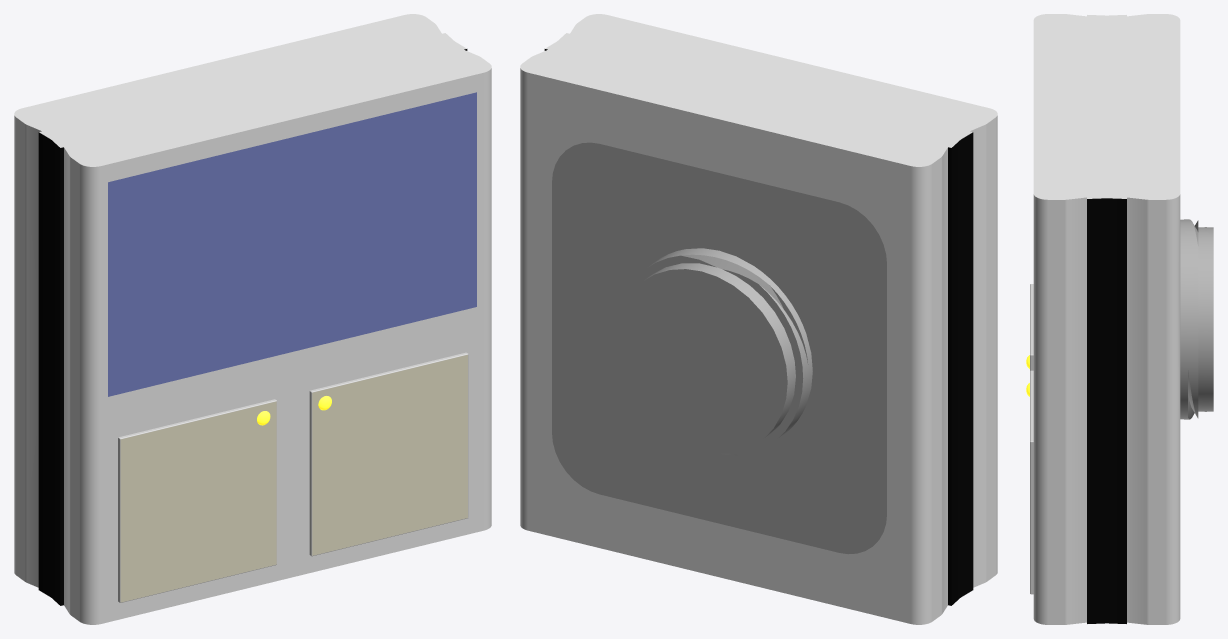
The model's file is devicev19.glb.
3 renders of one model, left to right at view 1: azimuth 30°, elevation 25°; view 2: azimuth 150°, elevation 25°; view 3: azimuth 270°, elevation 25°, orthographic. The views are drawn at different scales.
Visible parts, largest first — view 1: Body1, Distanzknopf, Lichtknopf; view 2: Body1, Male_001; view 3: Body1, Male_001, Distanzknopf, Lichtknopf.
Part boxes in pixels (x1,y1,x2,y2): Body1: [14, 14, 491, 624]; Distanzknopf: [309, 352, 468, 556]; Lichtknopf: [118, 399, 276, 602]; Body1: [520, 14, 997, 624]; Male_001: [552, 142, 886, 554]; Body1: [1033, 14, 1180, 624]; Male_001: [1180, 219, 1213, 419]; Distanzknopf: [1026, 370, 1033, 594]; Lichtknopf: [1026, 284, 1033, 370].
Bounding box in the file's own units: 60 × 64 × 25.55.
